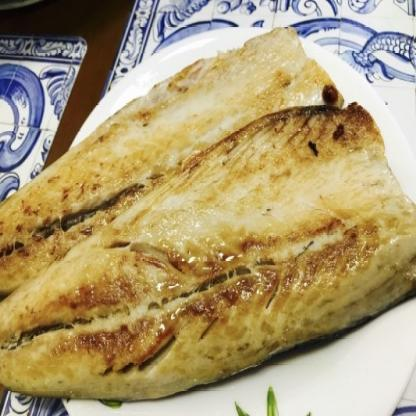Peixe: (0, 21, 416, 407)
